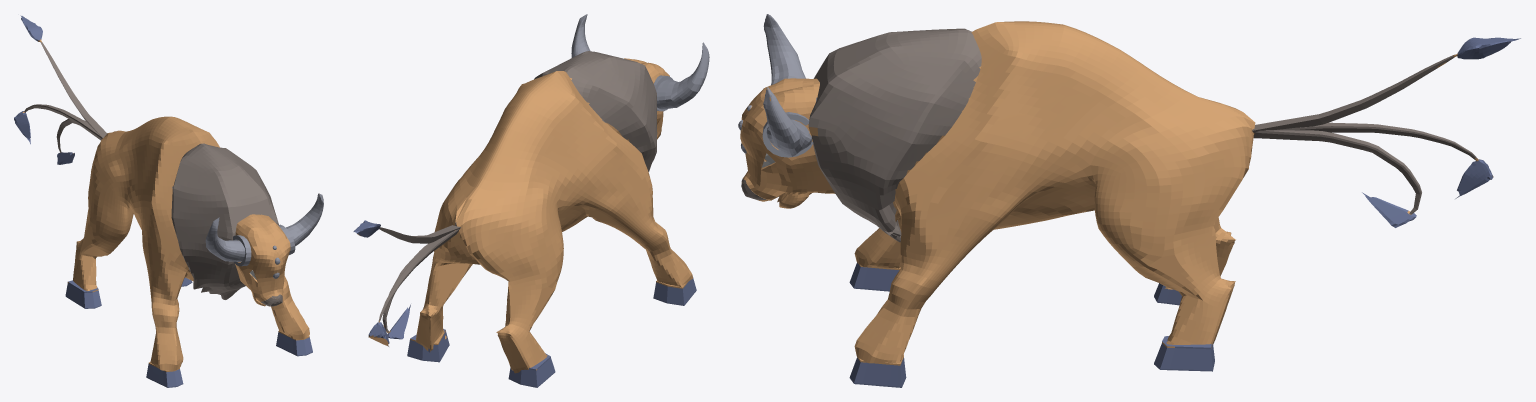
Rendered from tauros.glb.
3 views of the same model, side by side, from view 1: azimuth 30°, elevation 25°; view 2: azimuth 150°, elevation 25°; view 3: azimuth 270°, elevation 25° (orthographic). The views are drawn at different scales.
Visible parts, largest first — view 1: Tauros; view 2: Tauros; view 3: Tauros.
Boxes of the visible parts, x1=… form: Tauros: x1=14, y1=15, x2=323, y2=387; Tauros: x1=353, y1=14, x2=709, y2=387; Tauros: x1=738, y1=14, x2=1520, y2=387.
Size of the model in its own units: 0.1084 by 0.136 by 0.313.
